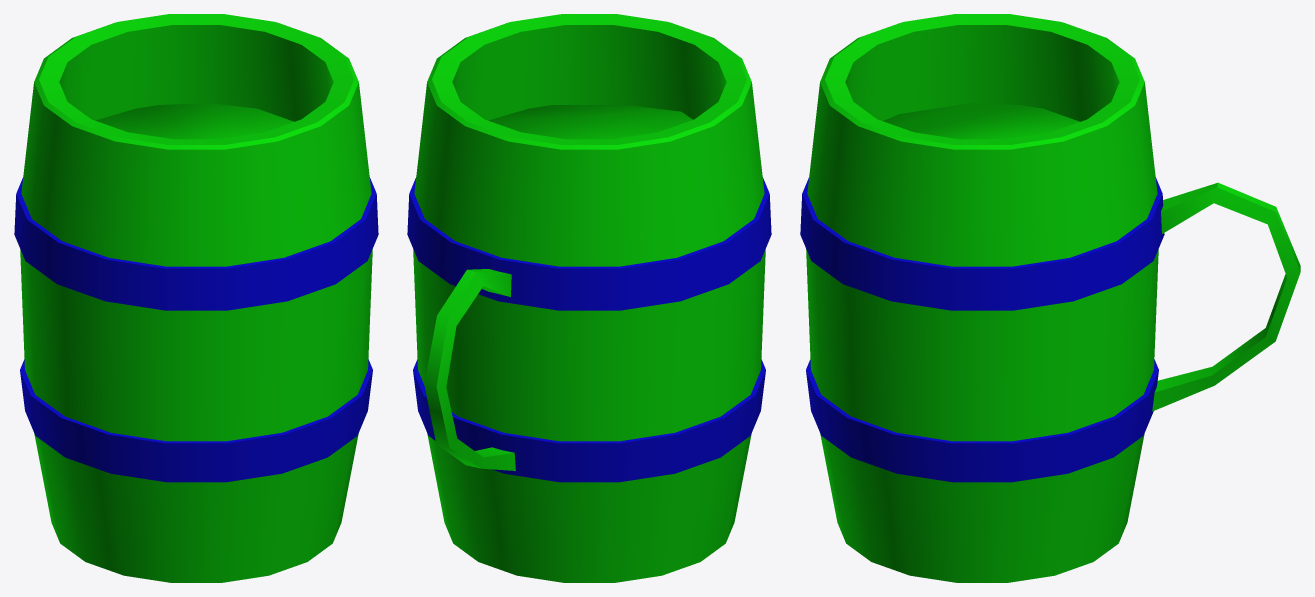
Rendered from mug.fbx.
The picture shows the model from 3 angles, left to right: view 1: azimuth 30°, elevation 25°; view 2: azimuth 150°, elevation 25°; view 3: azimuth 270°, elevation 25°; orthographic projection.
Visible parts, largest first — view 1: beer_mug.001; view 2: beer_mug.001; view 3: beer_mug.001.
Part boxes in pixels (x1,y1,x2,y2): beer_mug.001: (14, 14, 378, 582); beer_mug.001: (407, 14, 771, 582); beer_mug.001: (800, 14, 1300, 582).
Size of the model in its own units: 42.9 by 59.07 by 59.84.
